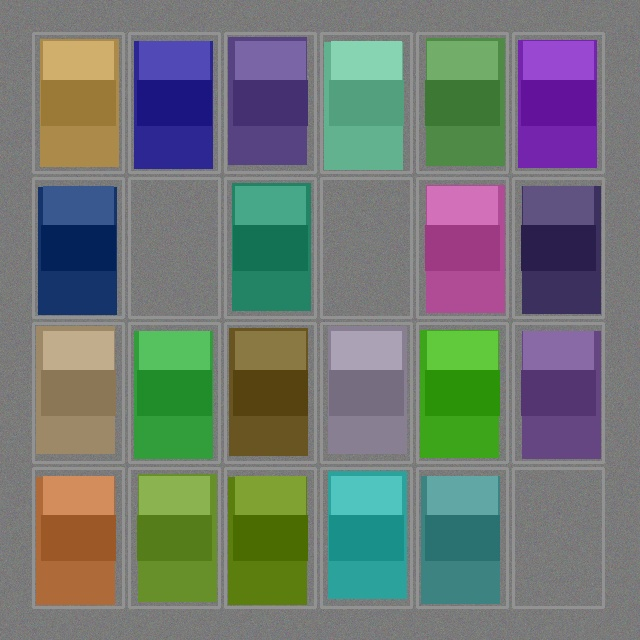space-empty: (131, 180, 217, 315), (323, 180, 409, 315), (515, 470, 601, 605)
space-occupied: (35, 35, 121, 170), (131, 35, 217, 170), (227, 35, 313, 170), (323, 35, 409, 170), (419, 35, 505, 170), (515, 35, 601, 170), (35, 180, 121, 315), (227, 180, 313, 315), (419, 180, 505, 315), (515, 180, 601, 315), (35, 325, 121, 460), (131, 325, 217, 460), (227, 325, 313, 460), (323, 325, 409, 460), (419, 325, 505, 460), (515, 325, 601, 460), (35, 470, 121, 605), (131, 470, 217, 605), (227, 470, 313, 605), (323, 470, 409, 605), (419, 470, 505, 605)
